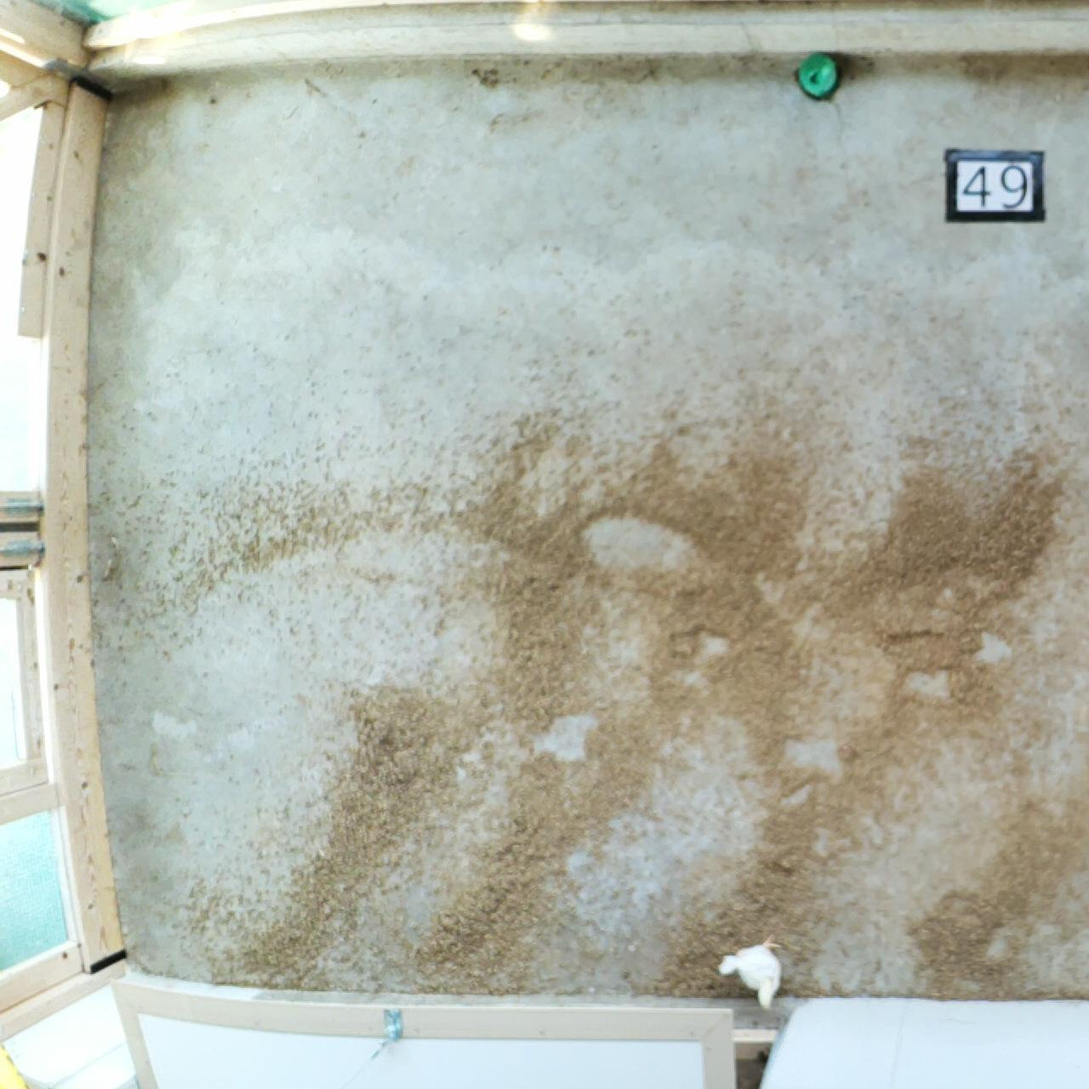chicken: (721, 938, 781, 1006)
